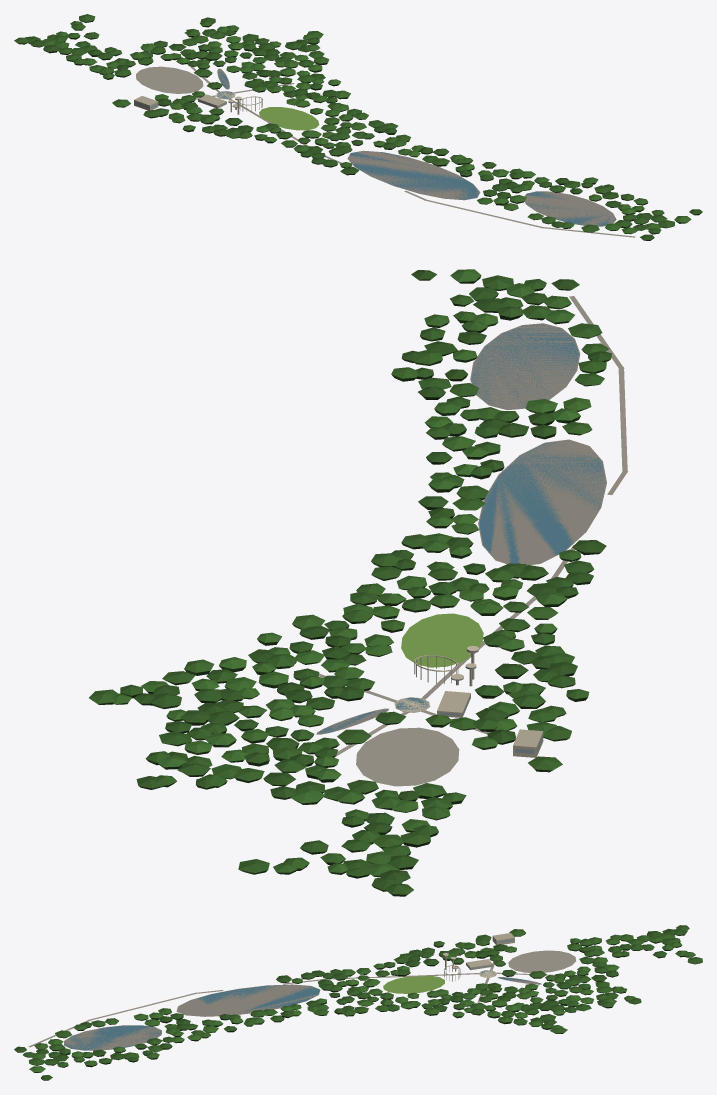
The picture shows the model from 3 angles, top to bottom: view 1: azimuth 30°, elevation 25°; view 2: azimuth 150°, elevation 25°; view 3: azimuth 270°, elevation 25°; orthographic projection. The views are drawn at different scales.
Visible parts, largest first — view 1: flushing-meadows-lod0; view 2: flushing-meadows-lod0; view 3: flushing-meadows-lod0.
Part boxes in pixels (left/top/right/bottom): flushing-meadows-lod0: left=14, top=14, right=702, bottom=240; flushing-meadows-lod0: left=89, top=269, right=627, bottom=896; flushing-meadows-lod0: left=14, top=925, right=702, bottom=1080.
Size of the model in its own units: 2697 by 124 by 5079.
